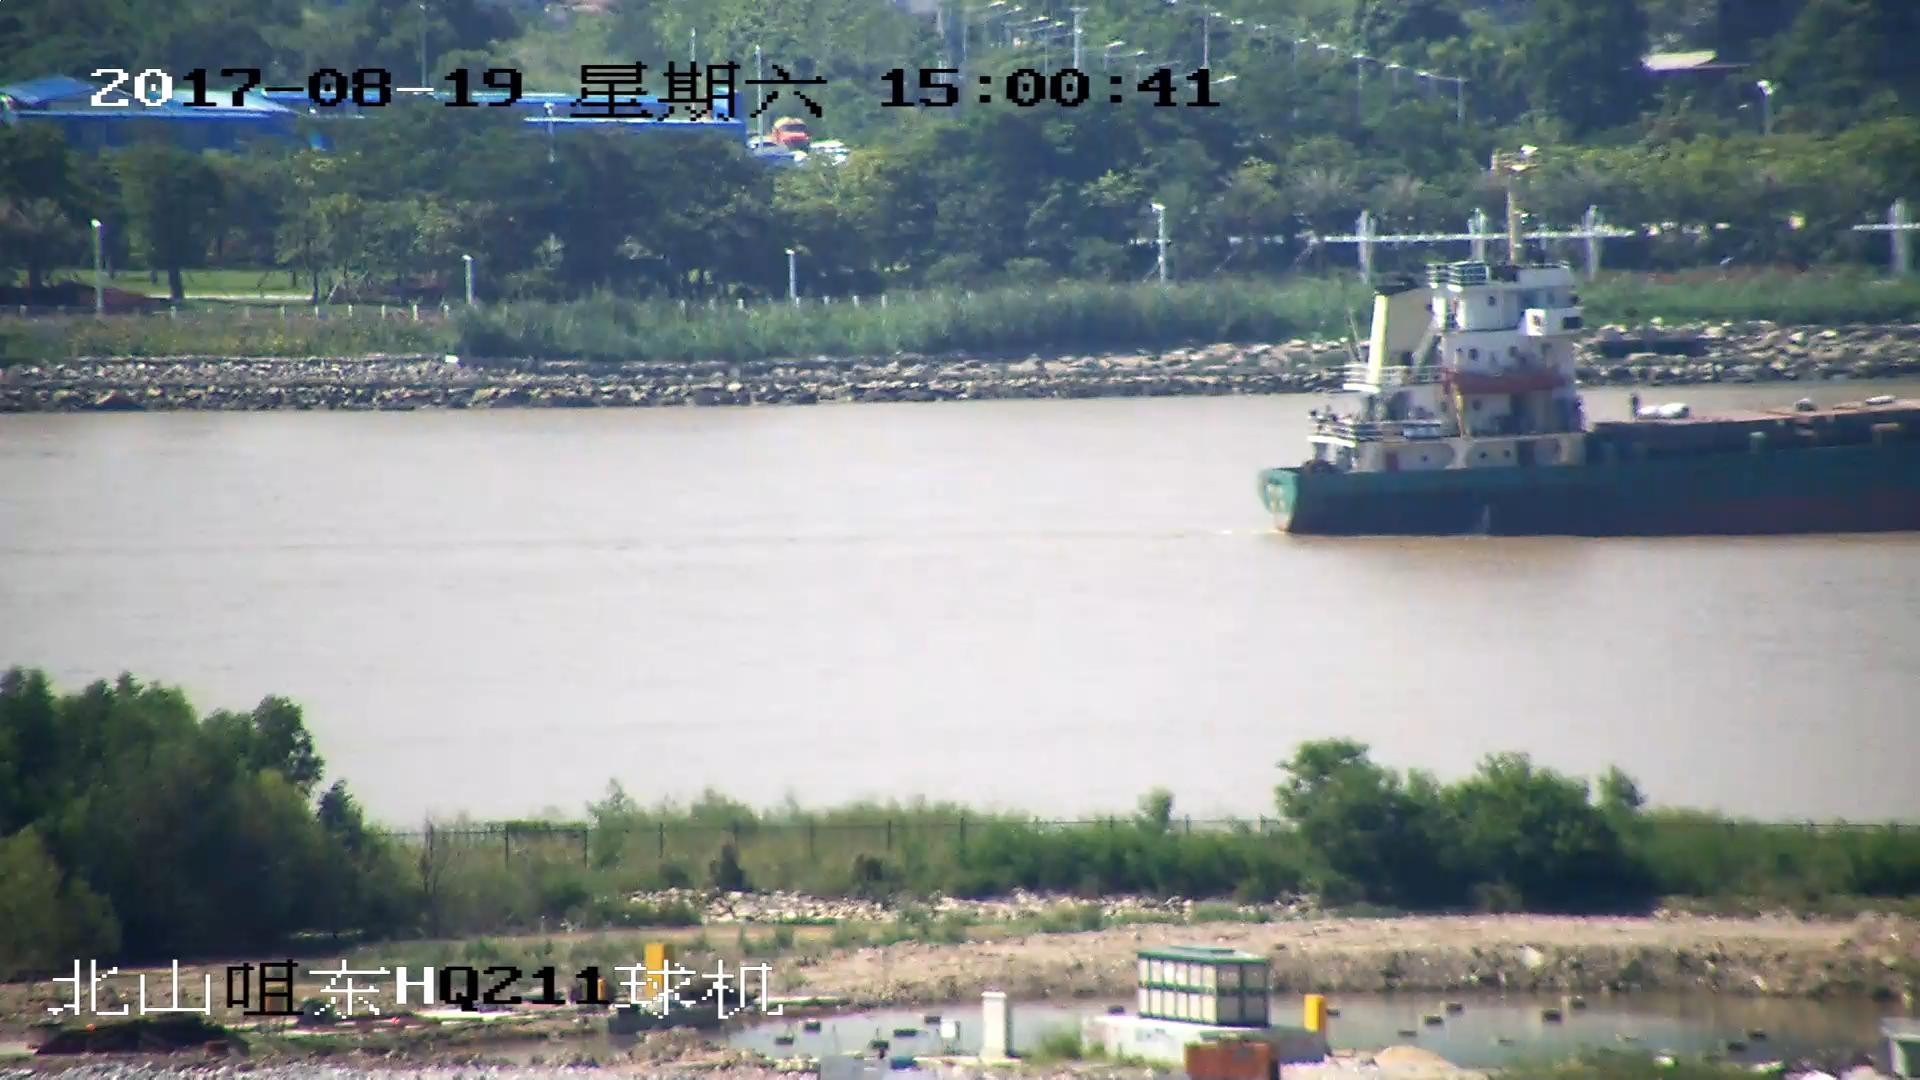Ship: (1267, 261, 1920, 541)
